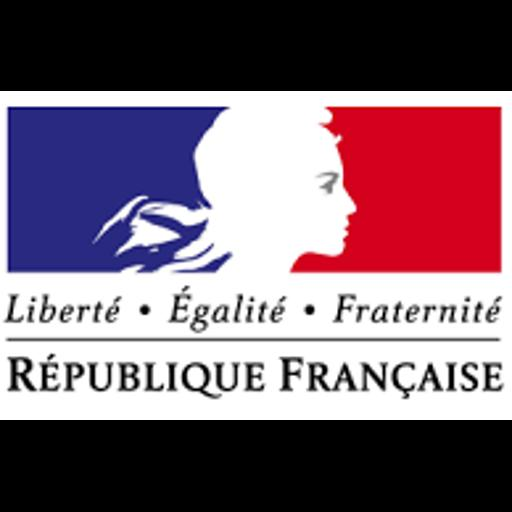DGI -French Tax Authority-: (0, 91, 512, 420)
